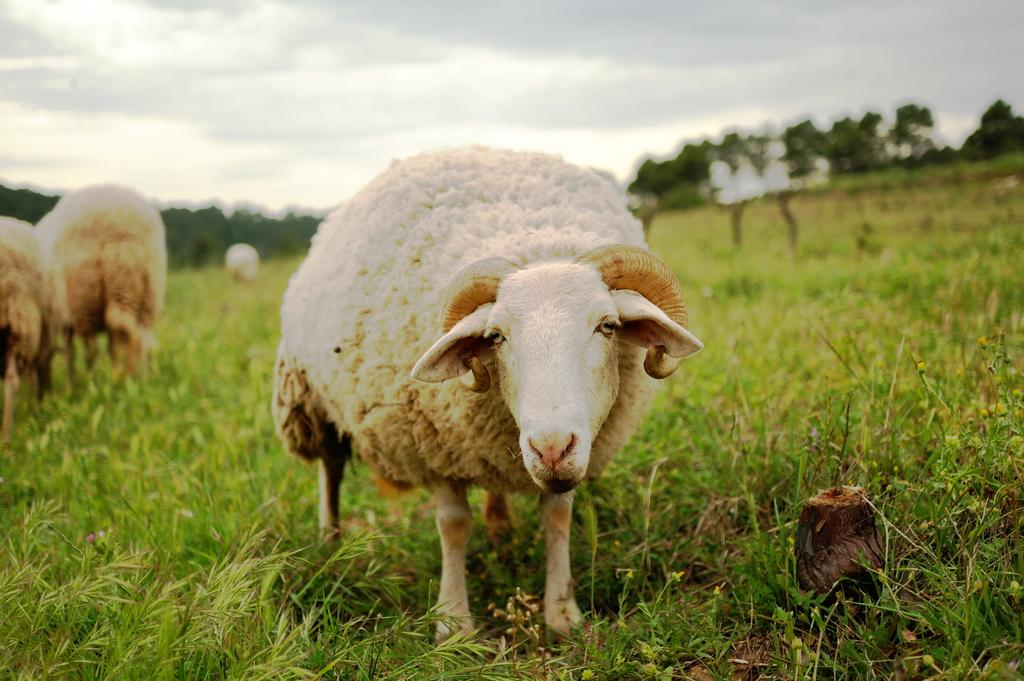Sheep: (268, 142, 698, 649), (26, 185, 166, 389), (0, 214, 69, 454)
